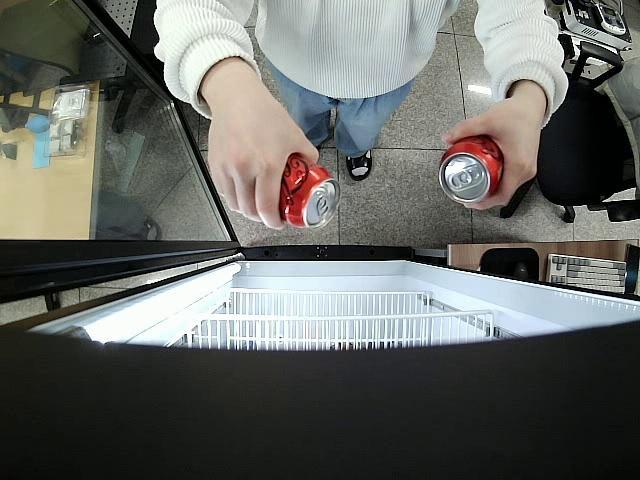11_cocaColaZero: (437, 132, 506, 208), (278, 154, 340, 228)
